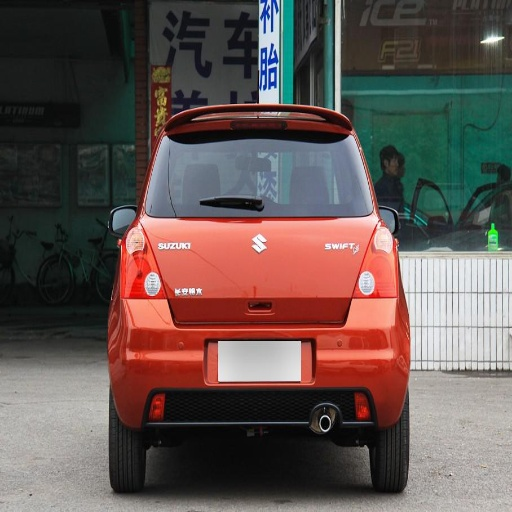back_bumper: (111, 281, 410, 432)
trunk: (130, 213, 388, 348)
